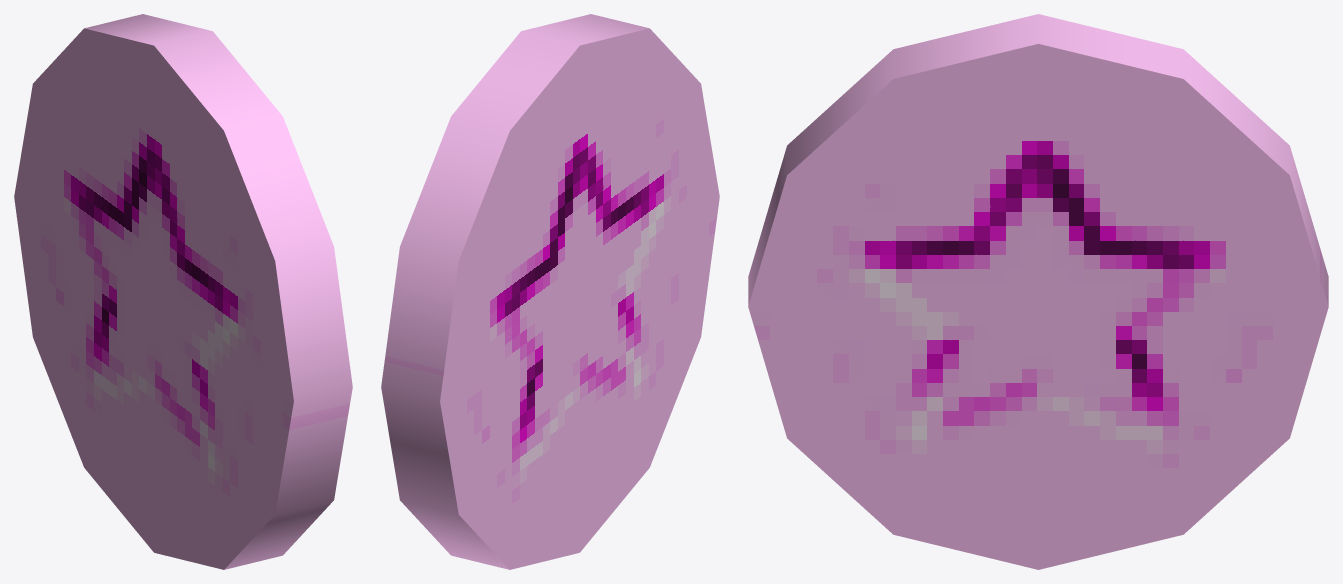
3 renders of one model, left to right at view 1: azimuth 30°, elevation 25°; view 2: azimuth 150°, elevation 25°; view 3: azimuth 270°, elevation 25°, orthographic. The views are drawn at different scales.
Parts seen in each view (by area): view 1: SketchUp; view 2: SketchUp; view 3: SketchUp.
Part boxes in pixels (x1,y1,x2,y2): SketchUp: (14, 14, 352, 569); SketchUp: (381, 14, 719, 569); SketchUp: (748, 14, 1328, 569).
Size of the model in its own units: 0.5 by 4.12 by 4.12.
1 material, 1 textured.
